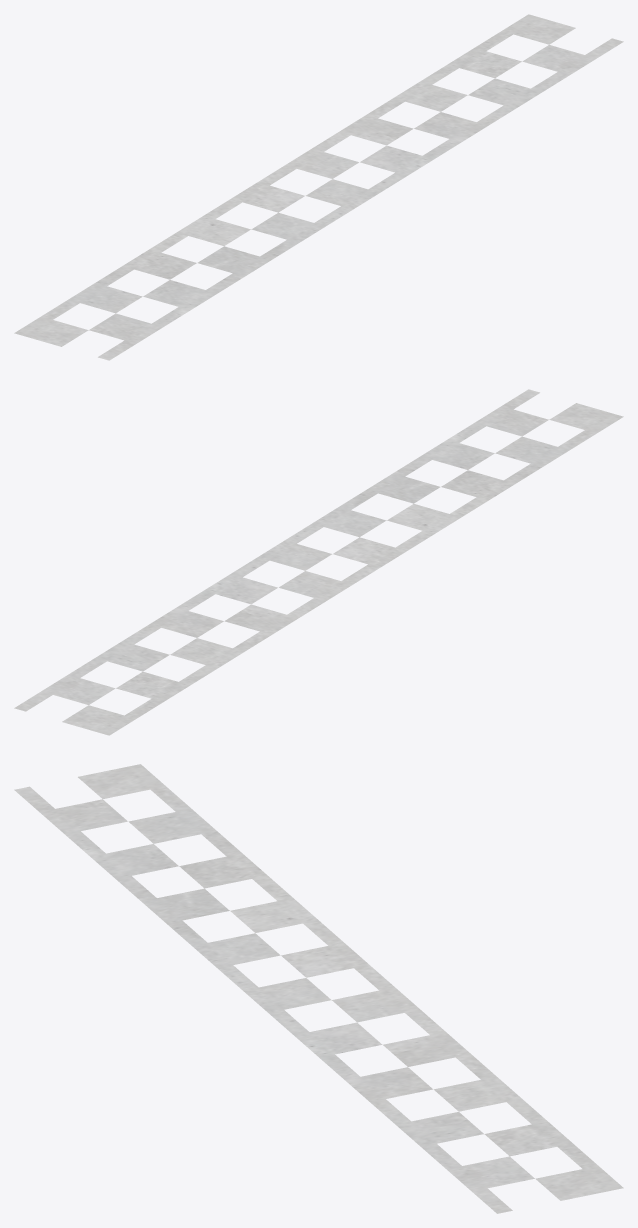
Rendered from Austin_track_road_finishline.dae.
3 views of the same model, one above another, from view 1: azimuth 30°, elevation 25°; view 2: azimuth 210°, elevation 25°; view 3: azimuth 270°, elevation 25° (orthographic). The views are drawn at different scales.
Parts seen in each view (by area): view 1: finishline; view 2: finishline; view 3: finishline.
Boxes of the visible parts, x1,y1,x2,y2 form: finishline: (14, 14, 623, 360); finishline: (14, 389, 623, 735); finishline: (14, 764, 623, 1213).
Size of the model in its own units: 1.39 by 0.7969 by 9.31e-10.
Materials: 1 (1 with a texture image).
